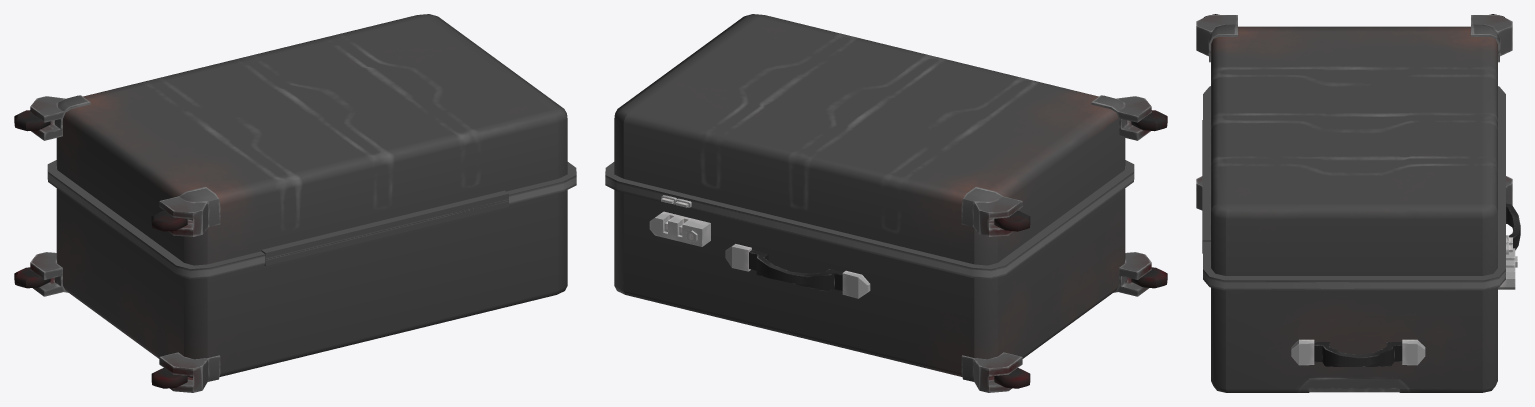
The model's file is suitcase.dae.
The picture shows the model from 3 angles, left to right: view 1: azimuth 30°, elevation 25°; view 2: azimuth 150°, elevation 25°; view 3: azimuth 270°, elevation 25°; orthographic projection.
Parts seen in each view (by area): view 1: node0; view 2: node0; view 3: node0.
Boxes of the visible parts, left/top/right/bottom form: node0: left=14, top=14, right=576, bottom=392; node0: left=605, top=14, right=1167, bottom=392; node0: left=1196, top=14, right=1520, bottom=392.
Size of the model in its own units: 0.8 by 0.5 by 0.32.
Materials: 1 (1 with a texture image).
